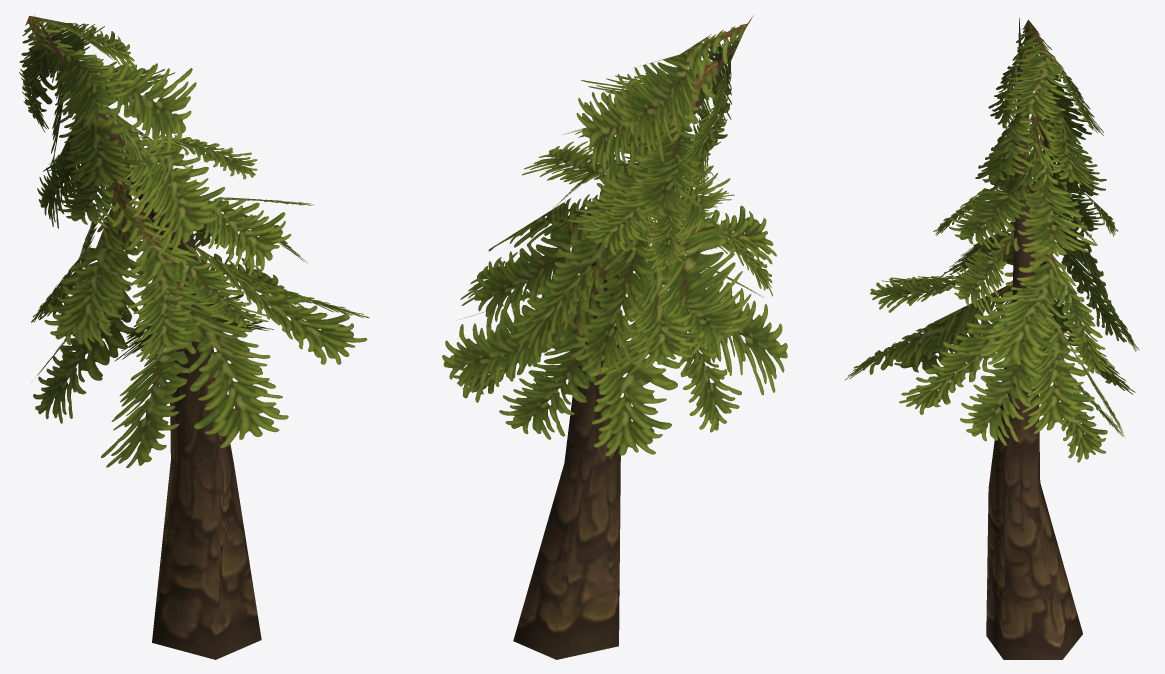
The model's file is tree_conifer_01.fbx.
The picture shows the model from 3 angles, left to right: view 1: azimuth 30°, elevation 25°; view 2: azimuth 150°, elevation 25°; view 3: azimuth 270°, elevation 25°; orthographic projection. The views are drawn at different scales.
Parts seen in each view (by area): view 1: tree_conifer_01; view 2: tree_conifer_01; view 3: tree_conifer_01.
Boxes of the visible parts, box(x1,y1,x2,y2) form: tree_conifer_01: box(19, 15, 369, 659); tree_conifer_01: box(442, 15, 787, 659); tree_conifer_01: box(844, 17, 1139, 659).
Bounding box in the file's own units: 258 × 508 × 264.
